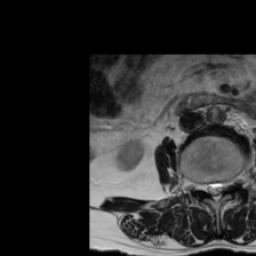CCS_normal: (211, 172, 218, 210)
LFS_normal: (226, 167, 234, 197)
LLS_normal: (218, 173, 226, 204)
RFS_normal: (198, 172, 204, 199)
RLS_normal: (204, 172, 211, 204)
